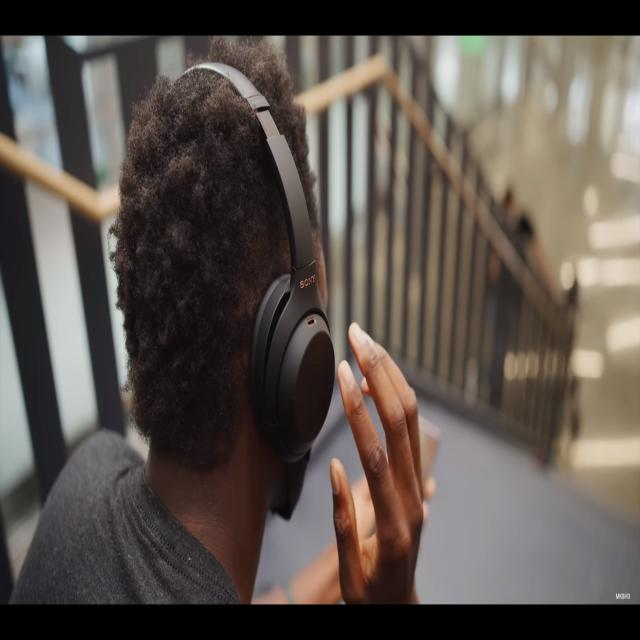Headphone: (172, 61, 336, 467)
